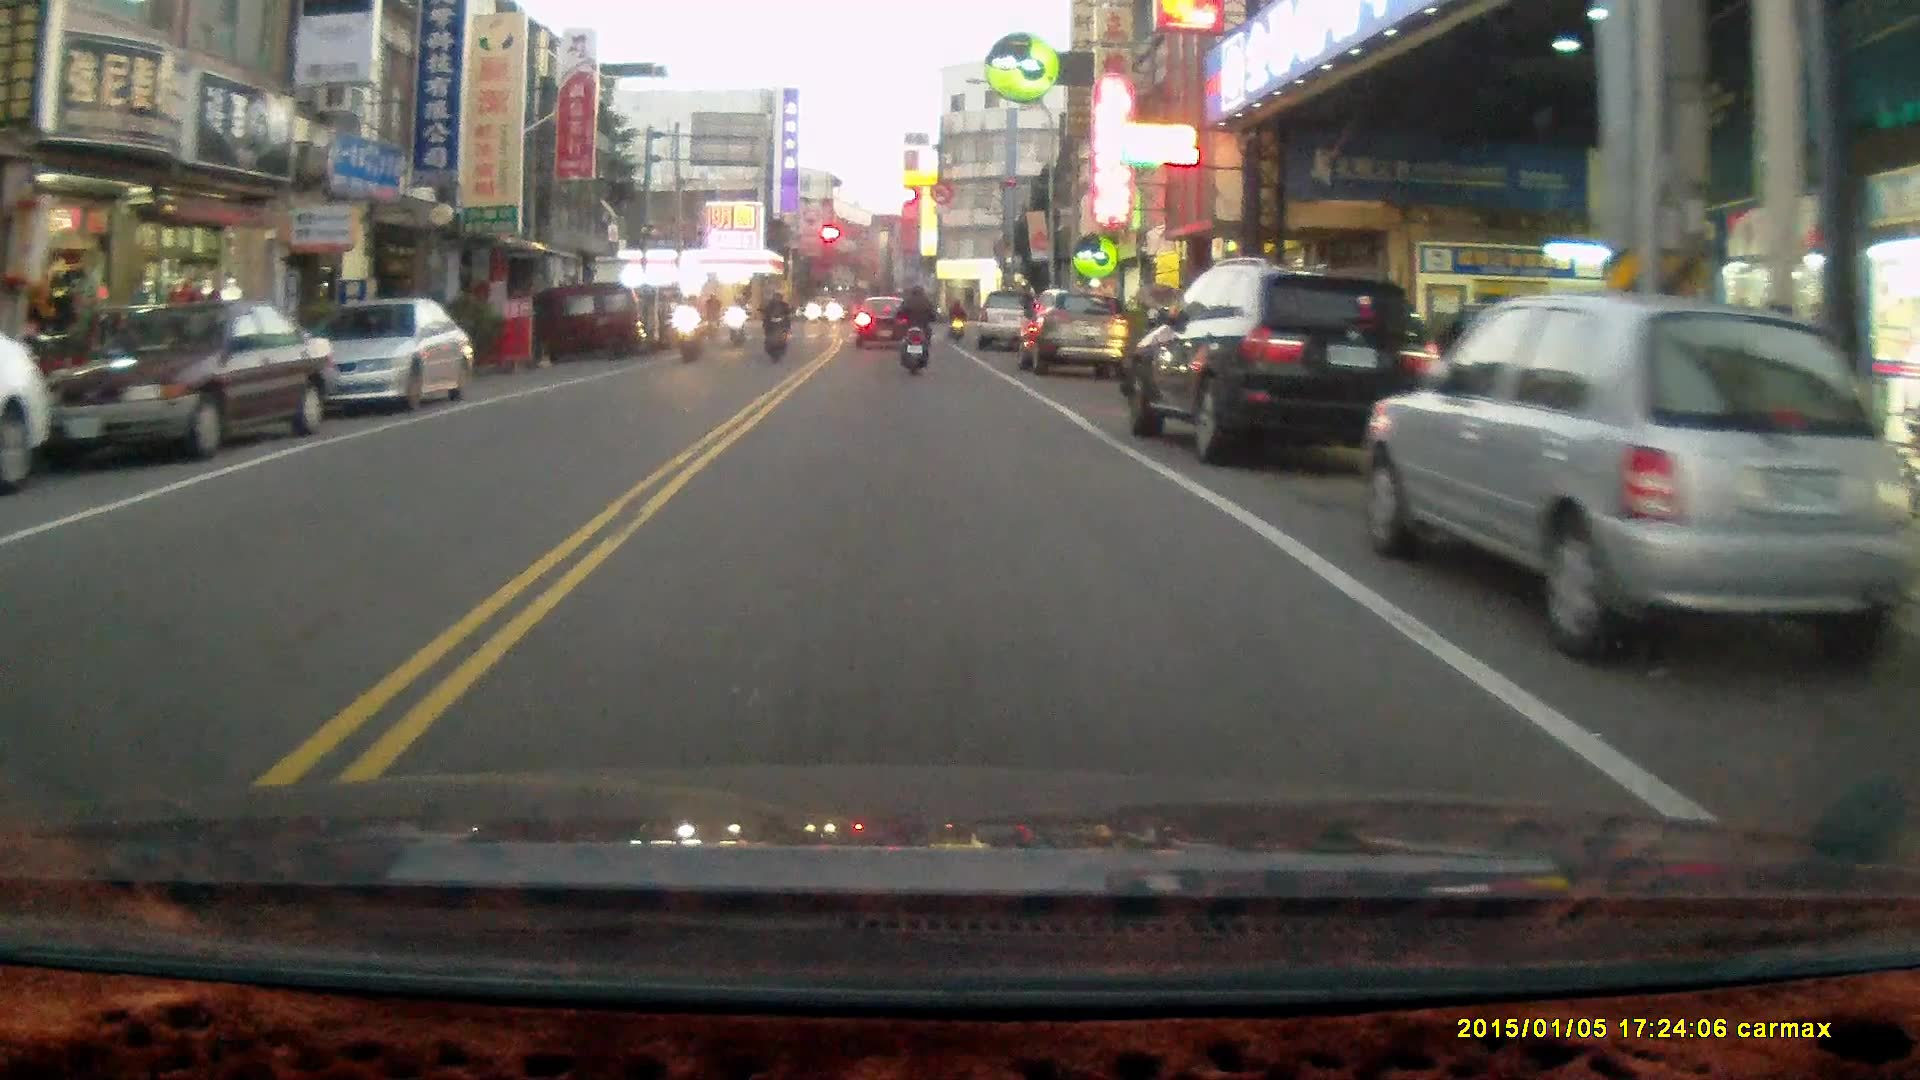rider: (892, 280, 933, 378), (675, 291, 706, 366), (761, 290, 791, 362), (699, 290, 724, 348), (724, 295, 748, 351), (945, 298, 967, 342)
vehicle: (1362, 292, 1905, 665), (1134, 259, 1436, 467), (24, 298, 335, 459), (299, 297, 474, 415), (1017, 293, 1131, 376), (556, 284, 655, 356), (1, 337, 47, 491), (978, 290, 1049, 355)
